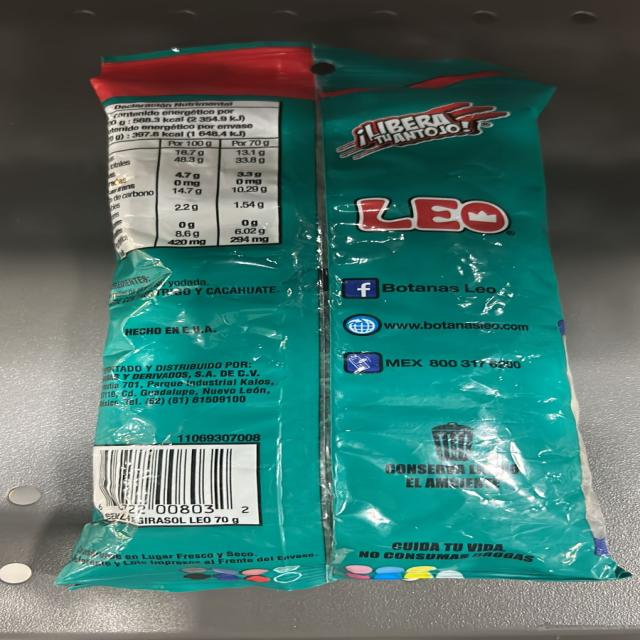productoAtras: (104, 73, 548, 575)
